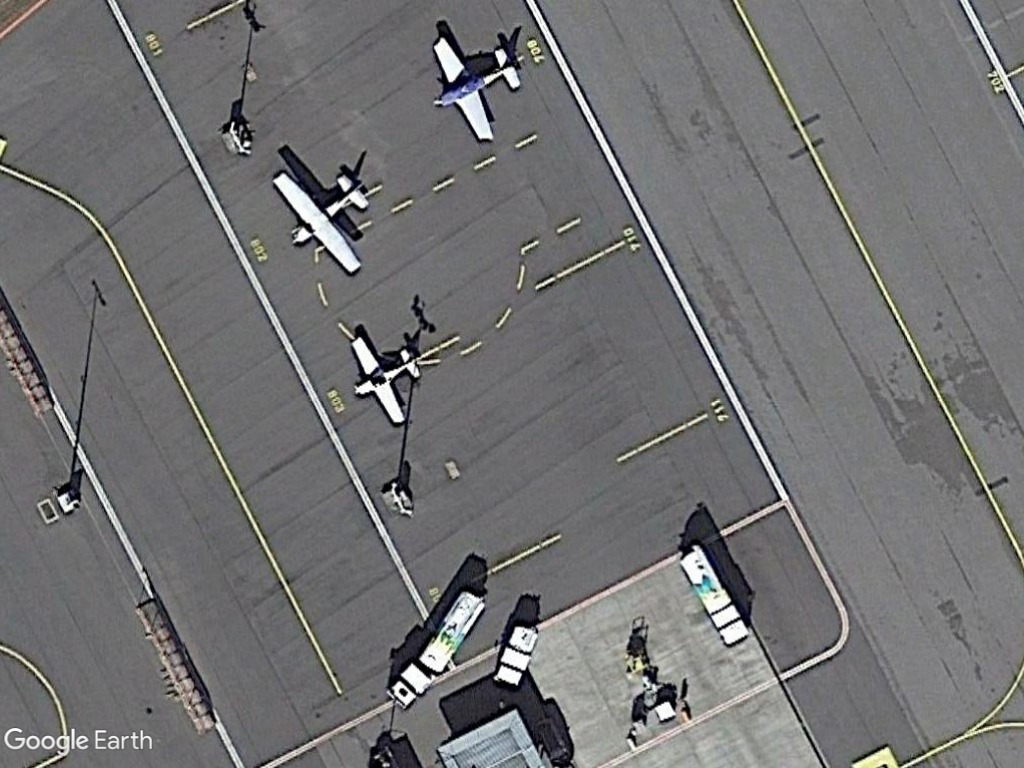longvehicle: (386, 587, 488, 707), (672, 539, 751, 650)
trainer: (265, 166, 379, 279), (424, 31, 526, 150), (341, 325, 423, 428)
